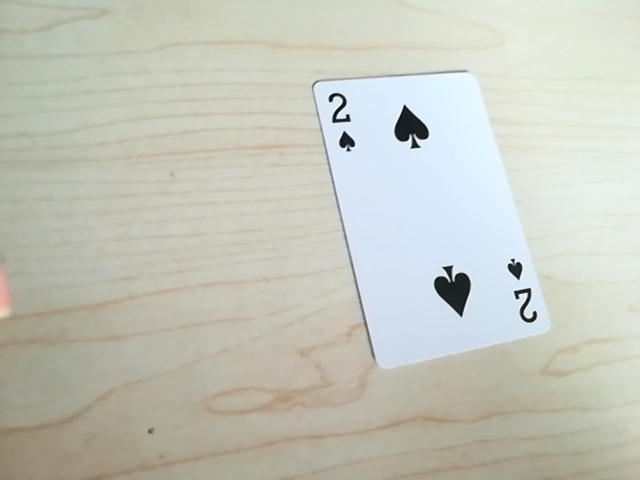ht 2: (322, 85, 364, 160), (502, 248, 537, 334)
